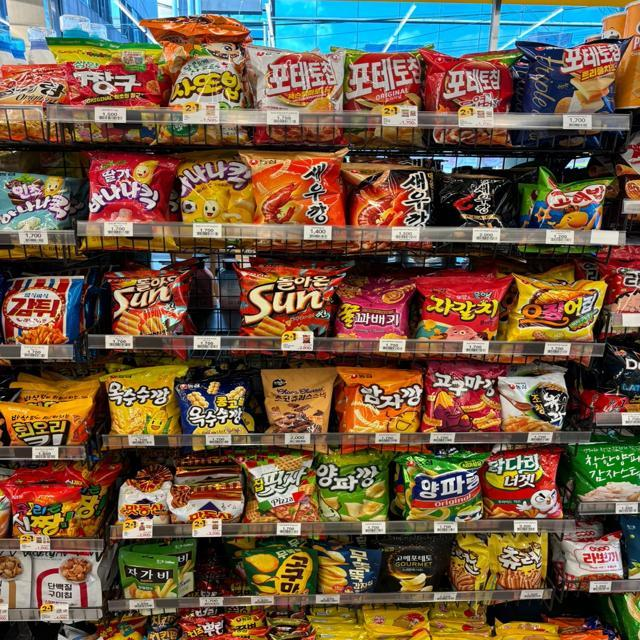product: (514, 36, 622, 151), (54, 36, 164, 141), (234, 259, 337, 361), (255, 147, 346, 244), (251, 46, 341, 141), (505, 274, 597, 364), (81, 155, 170, 248), (428, 51, 514, 142), (347, 162, 431, 252), (175, 153, 256, 245), (167, 41, 243, 137), (1, 277, 82, 366), (347, 45, 423, 139), (418, 280, 502, 363), (108, 267, 189, 352), (433, 174, 509, 259), (102, 361, 182, 437), (340, 366, 419, 440), (4, 171, 72, 254), (241, 454, 318, 527), (404, 452, 484, 521), (487, 451, 563, 523), (522, 182, 606, 245), (318, 452, 391, 524), (337, 286, 410, 356), (425, 366, 499, 433), (264, 372, 333, 436), (11, 482, 82, 542), (503, 375, 570, 435), (246, 541, 312, 589), (121, 552, 181, 599), (317, 547, 377, 592)
